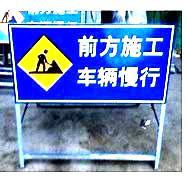sign: (9, 25, 165, 102)
